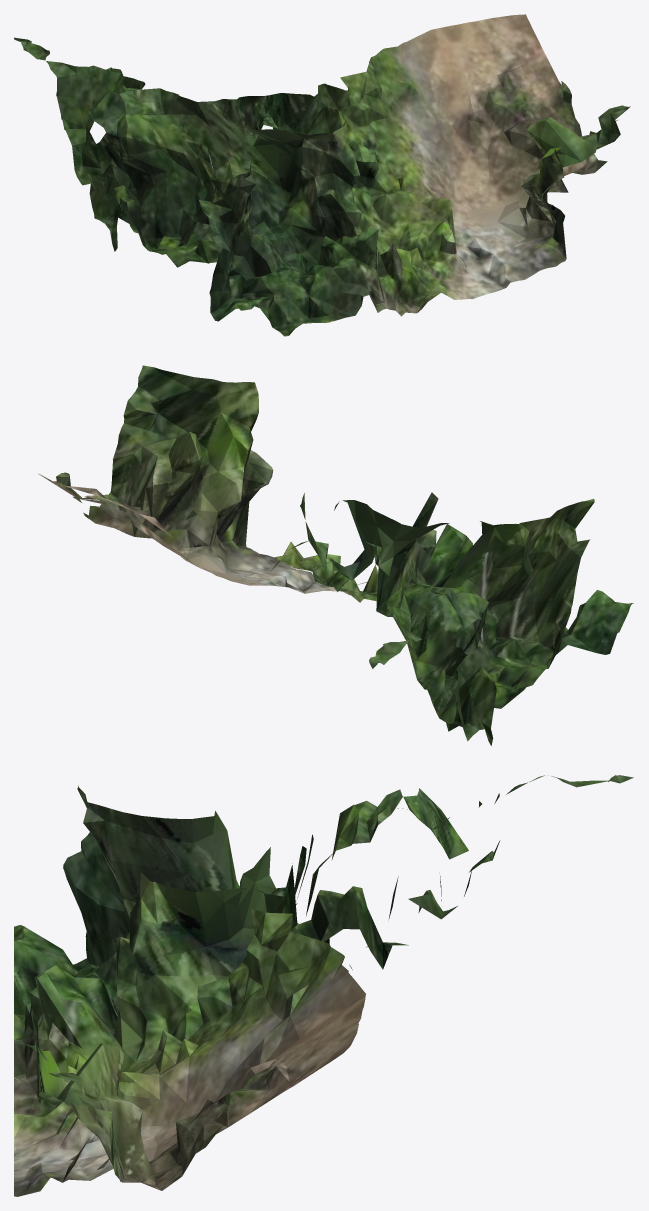
The picture shows the model from 3 angles, top to bottom: view 1: azimuth 30°, elevation 25°; view 2: azimuth 150°, elevation 25°; view 3: azimuth 270°, elevation 25°; orthographic projection. The views are drawn at different scales.
Size of the model in its own units: 26.11 by 9.62 by 24.66.
3 materials, 3 textured.
